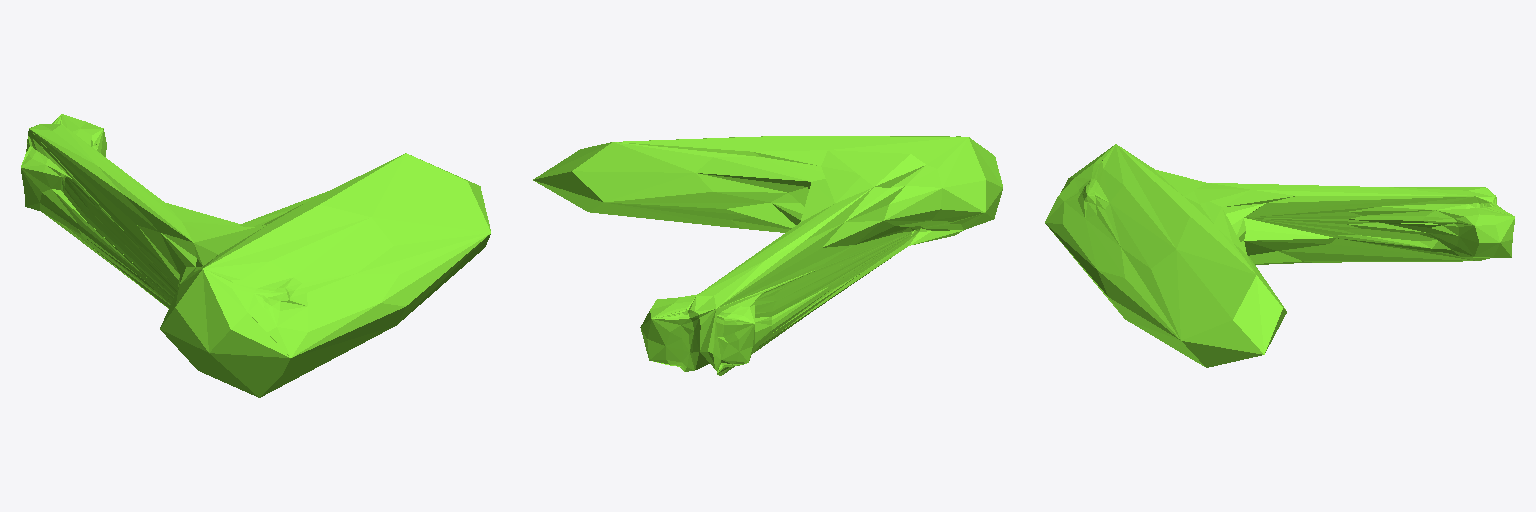
robot.urdf — blob751:

<robot name="blob751">
  <link name="random_obj_751">
    <contact>
      <lateral_friction value="1.0"/>
      <rolling_friction value="0.0"/>
      <inertia_scaling value="3.0"/>
      <contact_cfm value="0.0"/>
      <contact_erp value="1.0"/>
    </contact>
    <inertial>
      <origin rpy="0 0 0" xyz="0 0 0"/>
      <mass value="0.1122"/>
      <inertia ixx="1" ixy="0" ixz="0" iyy="1" iyz="0" izz="0"/>
    </inertial>
    <visual>
      <origin rpy="0 0 0" xyz="0 0 0"/>
      <geometry>
        <mesh filename="751.obj" scale="0.0085 0.0085 0.0085"/>
      </geometry>
      <material name="blockmat">
        <color rgba="0.59 0.96 0.29 1"/>
      </material>
    </visual>
    <collision>
      <origin rpy="0 0 0" xyz="0 0 0"/>
      <geometry>
        <mesh filename="751_coll.obj" scale="0.0085 0.0085 0.0085"/>
      </geometry>
    </collision>
  </link>
</robot>

--- Facts derived from the render (not from the file) ---
3 views of the same robot in one strip: view 1: azimuth 30°, elevation 25°; view 2: azimuth 150°, elevation 25°; view 3: azimuth 270°, elevation 25° (orthographic).
Model blob751 with 1 links and 0 joints (none), rooted at random_obj_751, posed every joint at zero.
Links seen in each view (by area): view 1: random_obj_751; view 2: random_obj_751; view 3: random_obj_751.
Boxes of the visible links, left/top/right/bottom form: random_obj_751: left=21, top=114, right=490, bottom=397; random_obj_751: left=533, top=136, right=1002, bottom=375; random_obj_751: left=1045, top=144, right=1514, bottom=367.
Size in the robot's own frame: 0.0964 by 0.117 by 0.0292 metres.
1 mesh visuals loaded from 1 distinct referenced files (1 OBJ).
